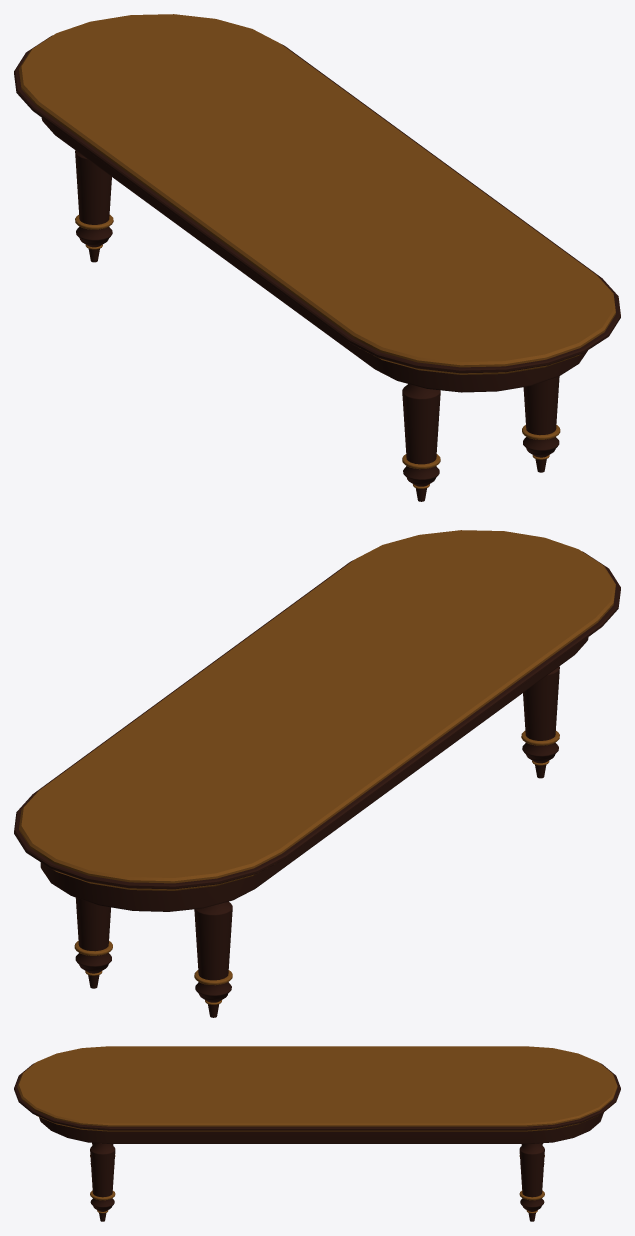
Rendered from dining room table long.obj.
3 renders of one model, top to bottom at view 1: azimuth 30°, elevation 25°; view 2: azimuth 150°, elevation 25°; view 3: azimuth 270°, elevation 25°, orthographic. The views are drawn at different scales.
Visible parts, largest first — view 1: polySurface38; view 2: polySurface38; view 3: polySurface38.
Part boxes in pixels (left/top/right/bottom): polySurface38: left=14, top=14, right=620, bottom=501; polySurface38: left=14, top=530, right=620, bottom=1017; polySurface38: left=14, top=1046, right=620, bottom=1221.
Size of the model in its own units: 118 by 78.99 by 372.
